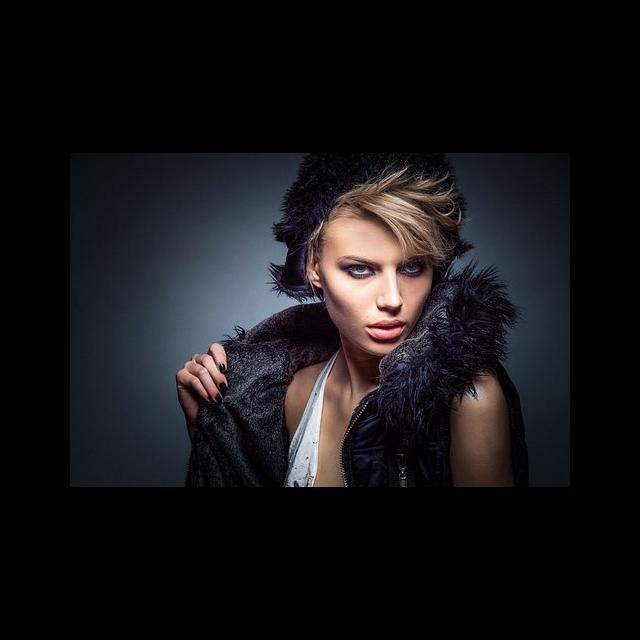female: (284, 153, 529, 368)
